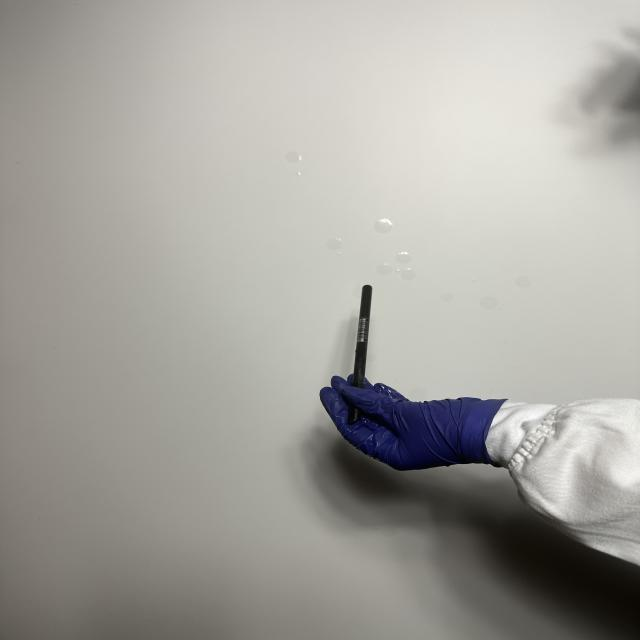gloves_contaminated: (320, 376, 503, 470)
